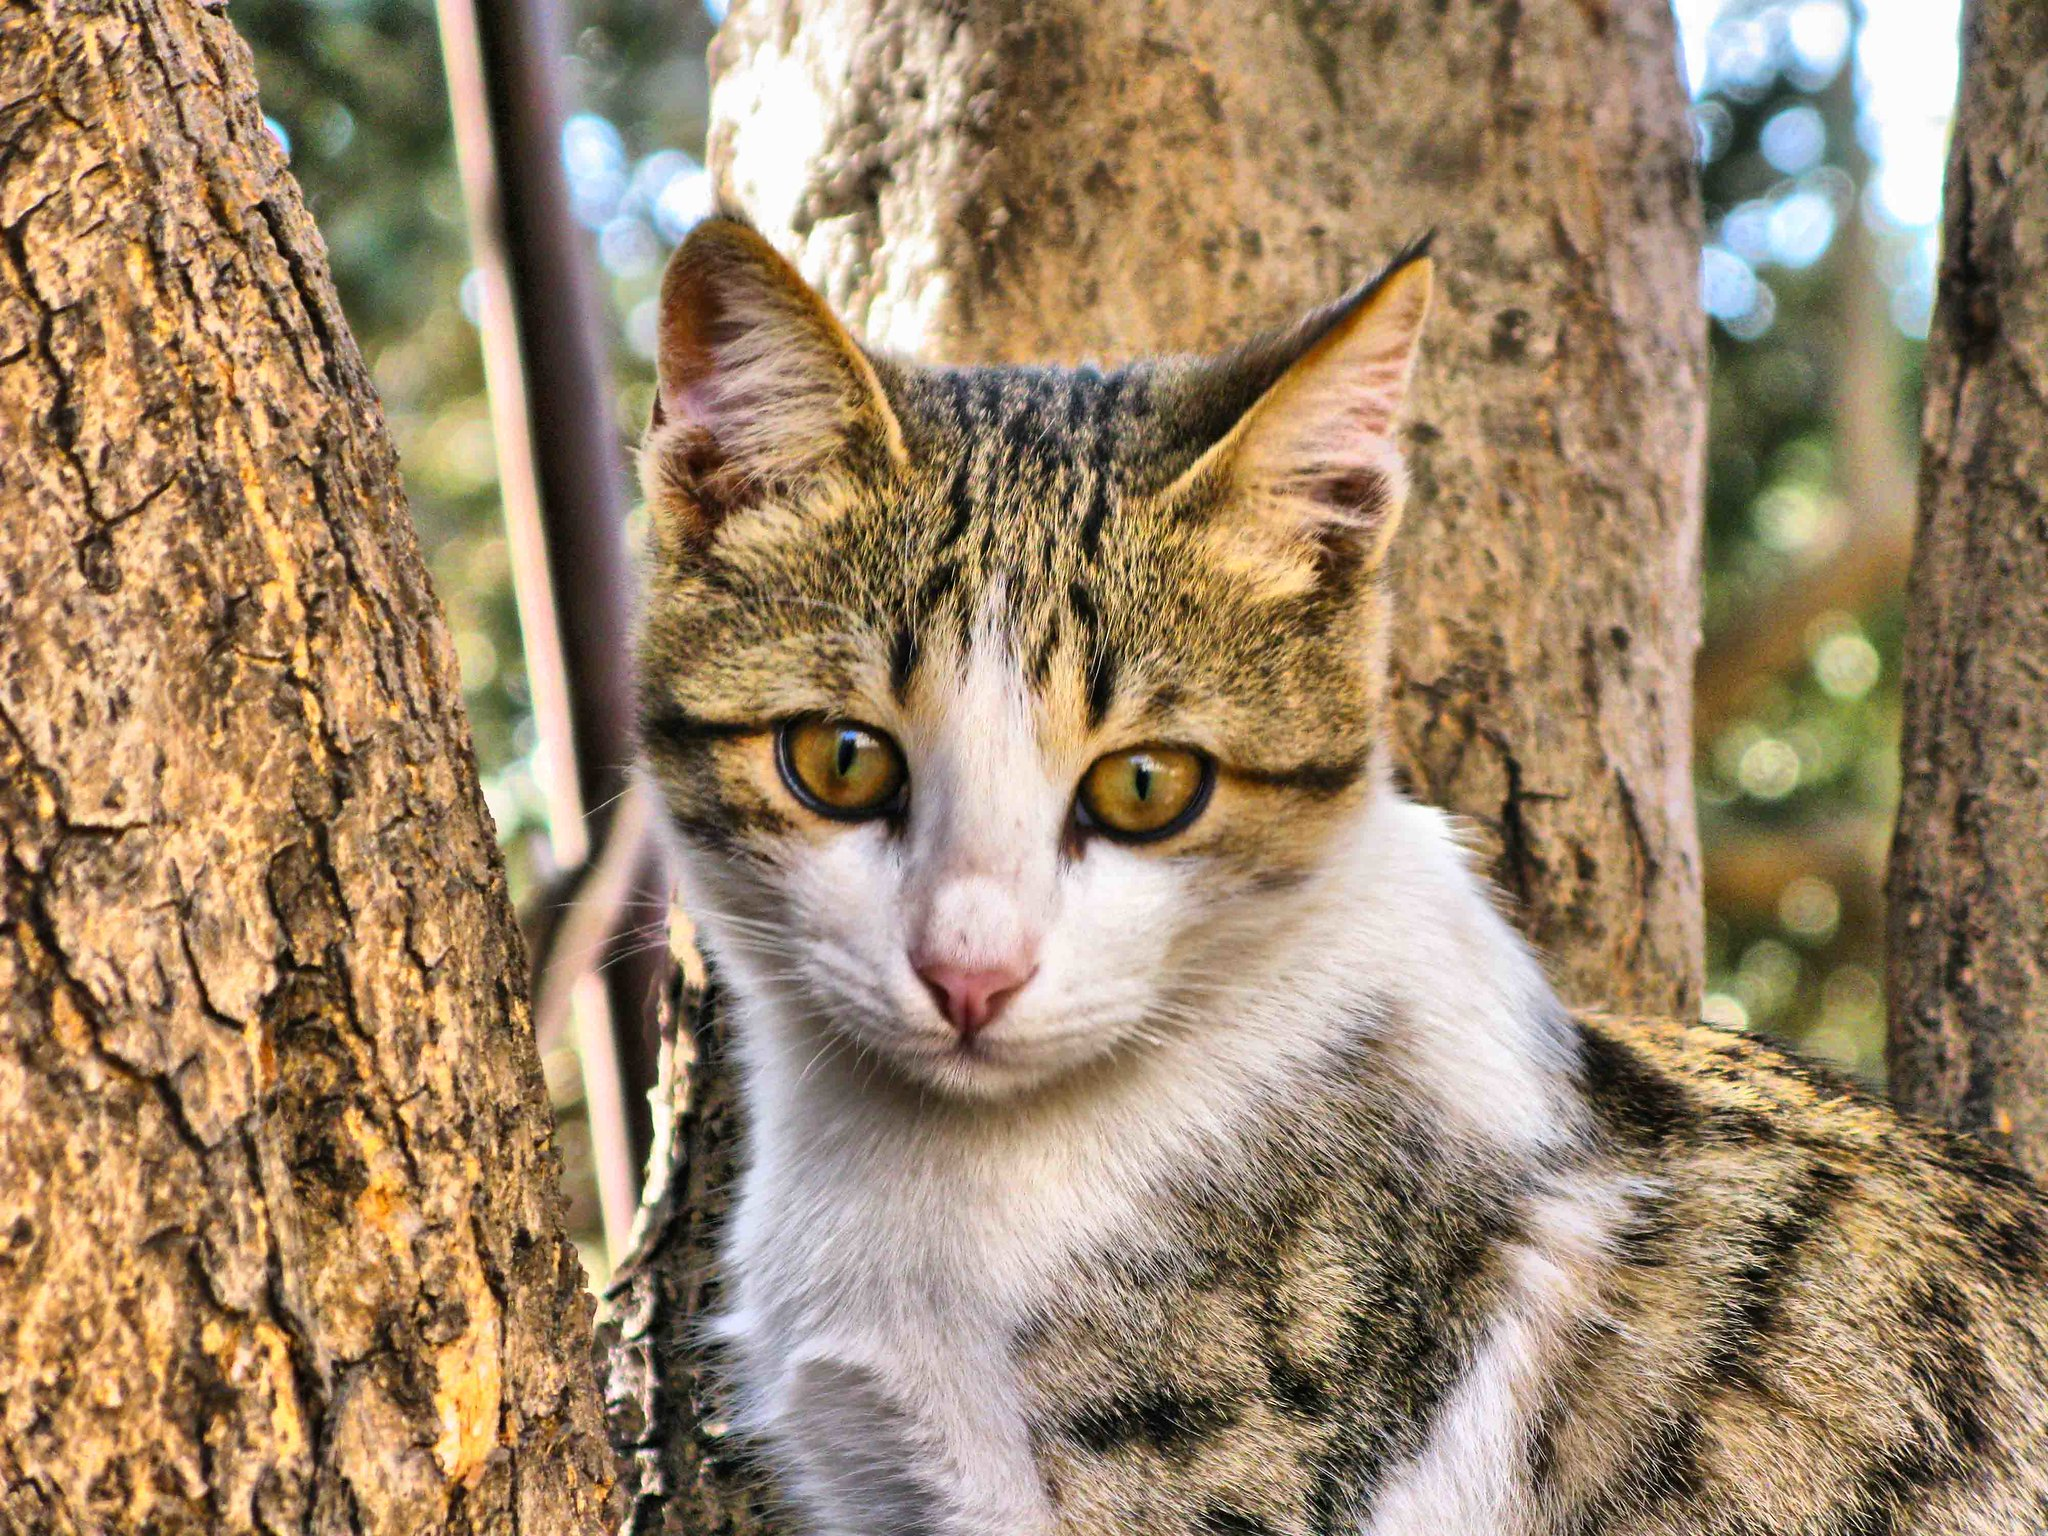cat: (626, 207, 2046, 1536)
